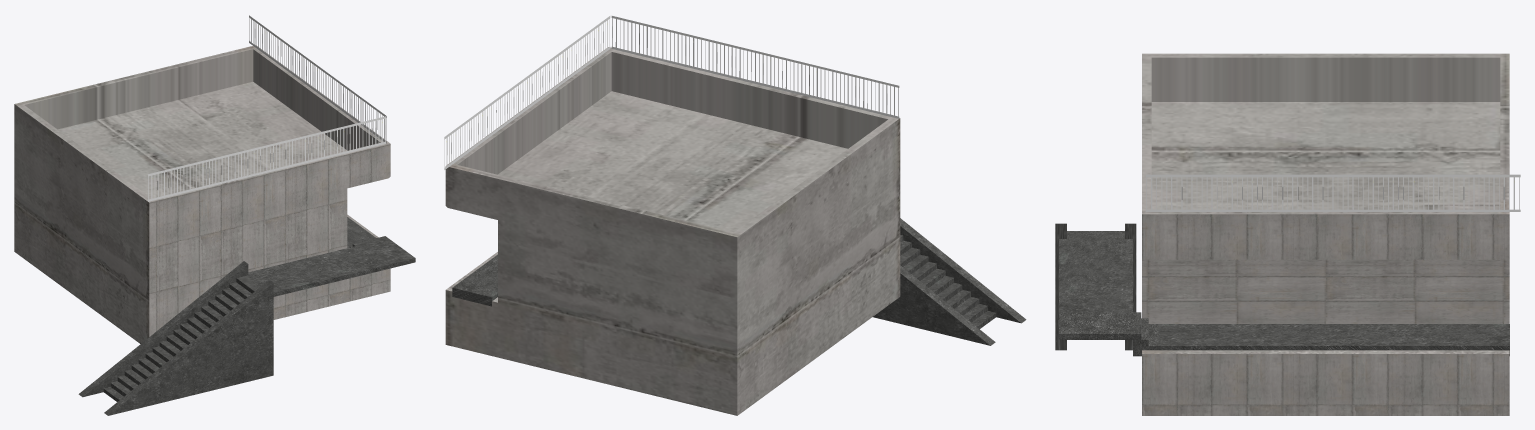
The model's file is bldg_09_modern_roastery.glb.
3 views of the same model, side by side, from view 1: azimuth 30°, elevation 25°; view 2: azimuth 150°, elevation 25°; view 3: azimuth 270°, elevation 25° (orthographic). The views are drawn at different scales.
Visible parts, largest first — view 1: ModernRoastery; view 2: ModernRoastery; view 3: ModernRoastery.
Boxes of the visible parts, x1=… form: ModernRoastery: x1=14, y1=15, x2=415, y2=415; ModernRoastery: x1=444, y1=16, x2=1026, y2=415; ModernRoastery: x1=1055, y1=53, x2=1520, y2=415.
Size of the model in its own units: 10.95 by 6.7 by 10.29.
3 materials, 3 textured.
